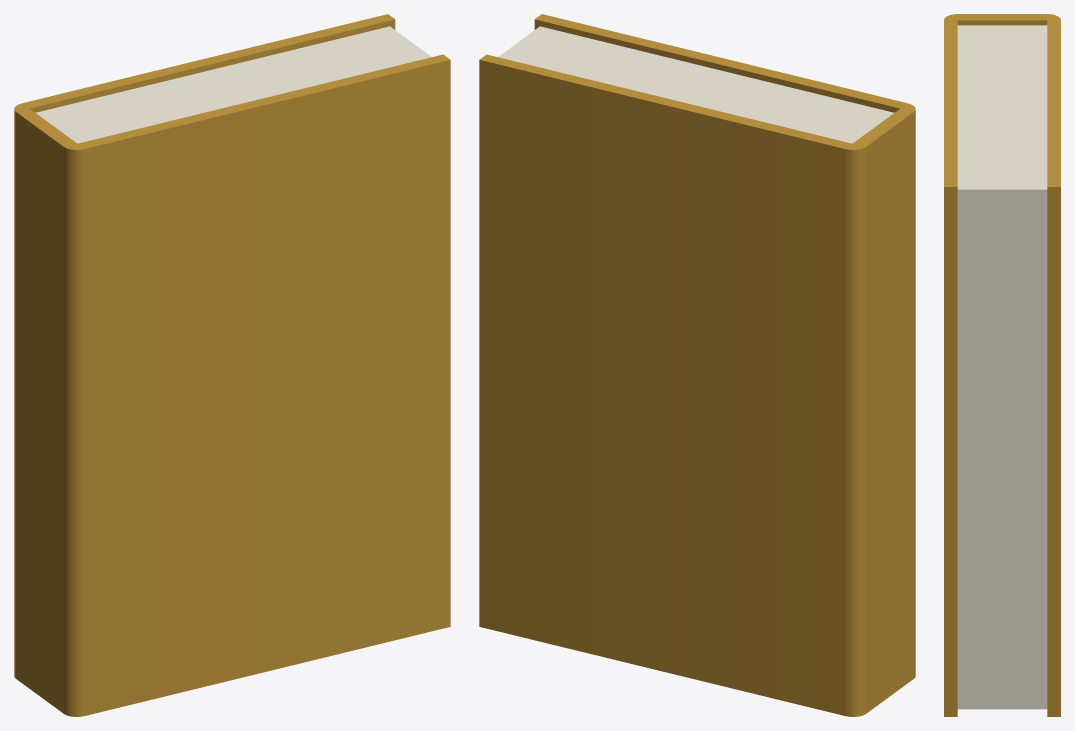
The model's file is book_yellow.fbx.
3 views of the same model, side by side, from view 1: azimuth 30°, elevation 25°; view 2: azimuth 150°, elevation 25°; view 3: azimuth 270°, elevation 25° (orthographic). The views are drawn at different scales.
Parts seen in each view (by area): view 1: Cube, Cube.001; view 2: Cube, Cube.001; view 3: Cube.001, Cube.
Boxes of the visible parts, box(x1,y1,x2,y2) form: Cube: box(14, 14, 450, 716); Cube.001: box(35, 26, 431, 143); Cube: box(479, 14, 915, 716); Cube.001: box(498, 26, 894, 143); Cube.001: box(957, 25, 1047, 709); Cube: box(944, 14, 1060, 716).
Bounding box in the file's own units: 140 × 200 × 40.
